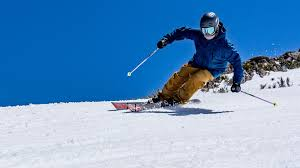skis: (108, 99, 187, 112)
